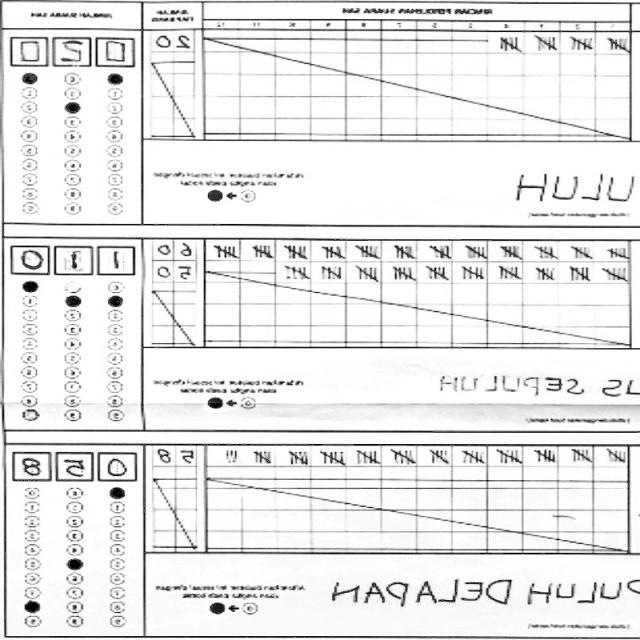Suara: (14, 447, 143, 482), (9, 35, 138, 69), (10, 246, 138, 276)
